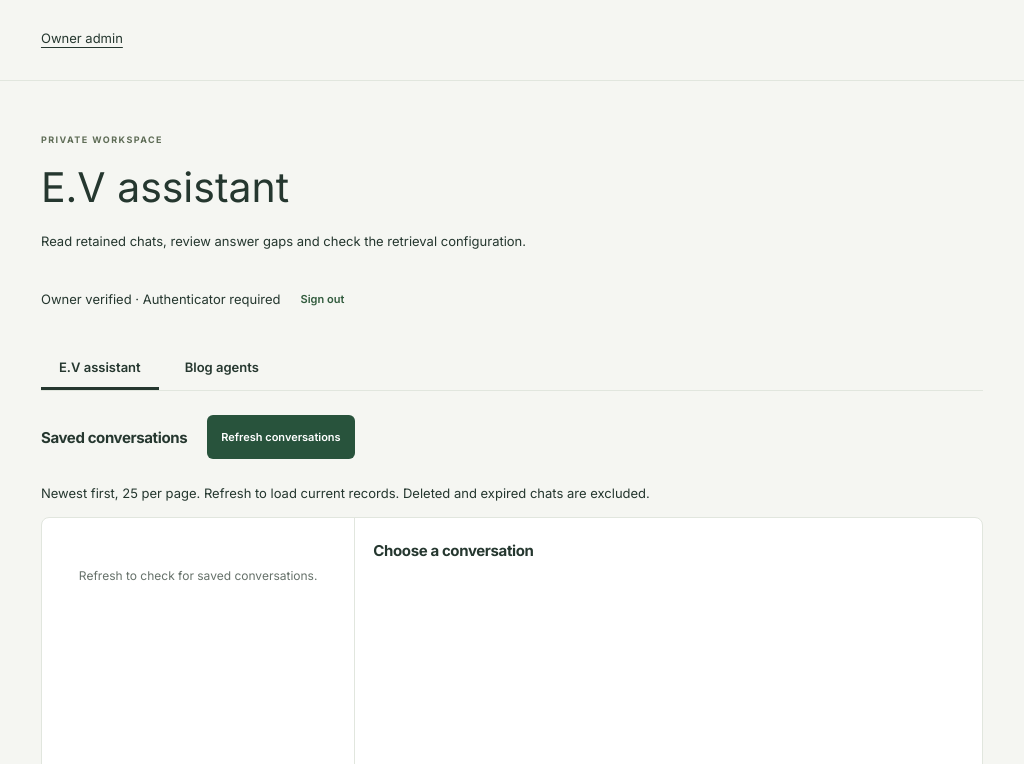
Test: opens on the E.V section and switches to a read-only Blog section
Expected: the heading "E.V assistant" is shown, [41,162,289,212]
Click the button "Blog agents" at (222, 368), box [167,346,277,390]
(page scrolled)
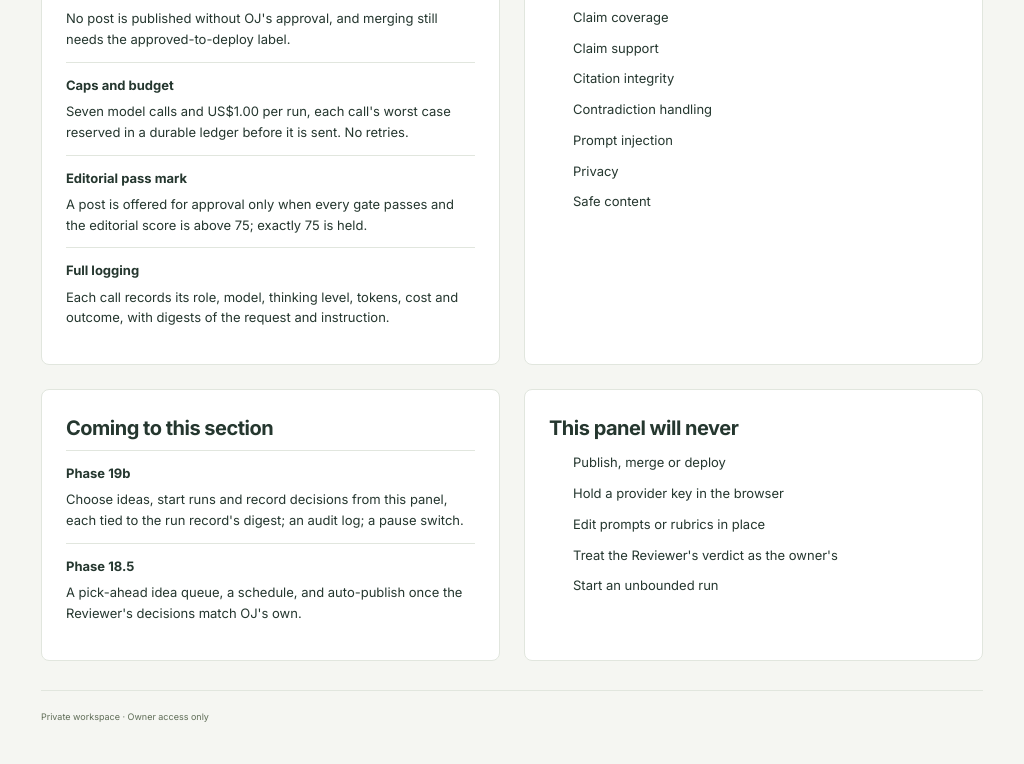
Now the heading "This panel will never" is shown, box [549,416,738,440]
Now the button "Refresh conversations" is gone
